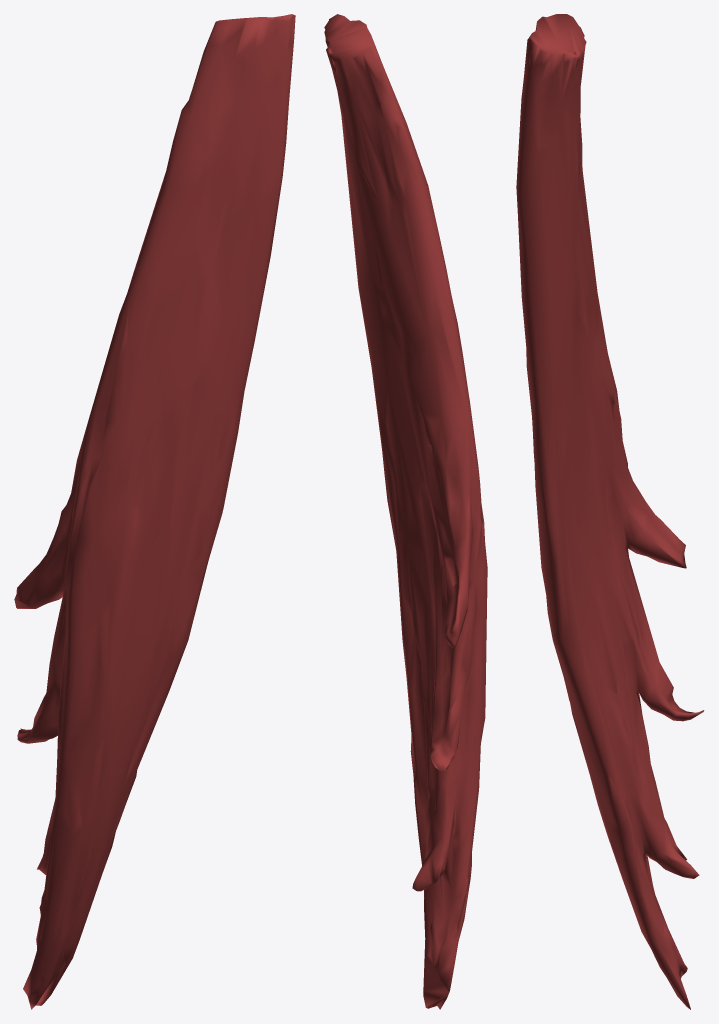
Rendered from longus-capitis-muscle-r.glb.
The picture shows the model from 3 angles, left to right: view 1: azimuth 30°, elevation 25°; view 2: azimuth 150°, elevation 25°; view 3: azimuth 270°, elevation 25°; orthographic projection. The views are drawn at different scales.
Visible parts, largest first — view 1: Longus capitis muscle.r; view 2: Longus capitis muscle.r; view 3: Longus capitis muscle.r.
Part boxes in pixels (x1=…): Longus capitis muscle.r: x1=14, y1=14, x2=295, y2=1009; Longus capitis muscle.r: x1=324, y1=14, x2=487, y2=1009; Longus capitis muscle.r: x1=516, y1=14, x2=704, y2=1009.
Bounding box in the file's own units: 0.0243 × 0.1101 × 0.0176.
